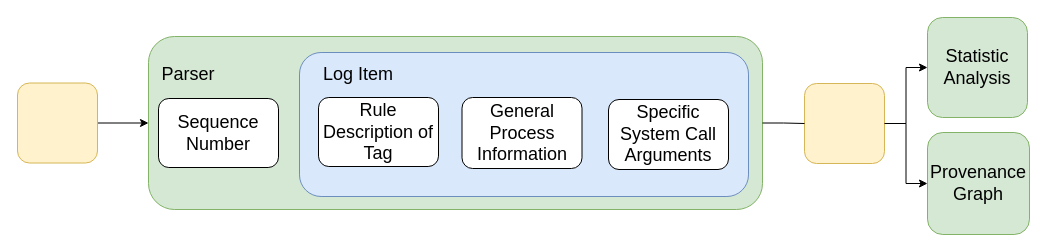
This 1047x252 diagram has some shape labels left out. Each missing label, with the centre of its shape:
Parsed Log: pixel 844 123
Raw Audit Log: pixel 57 122
